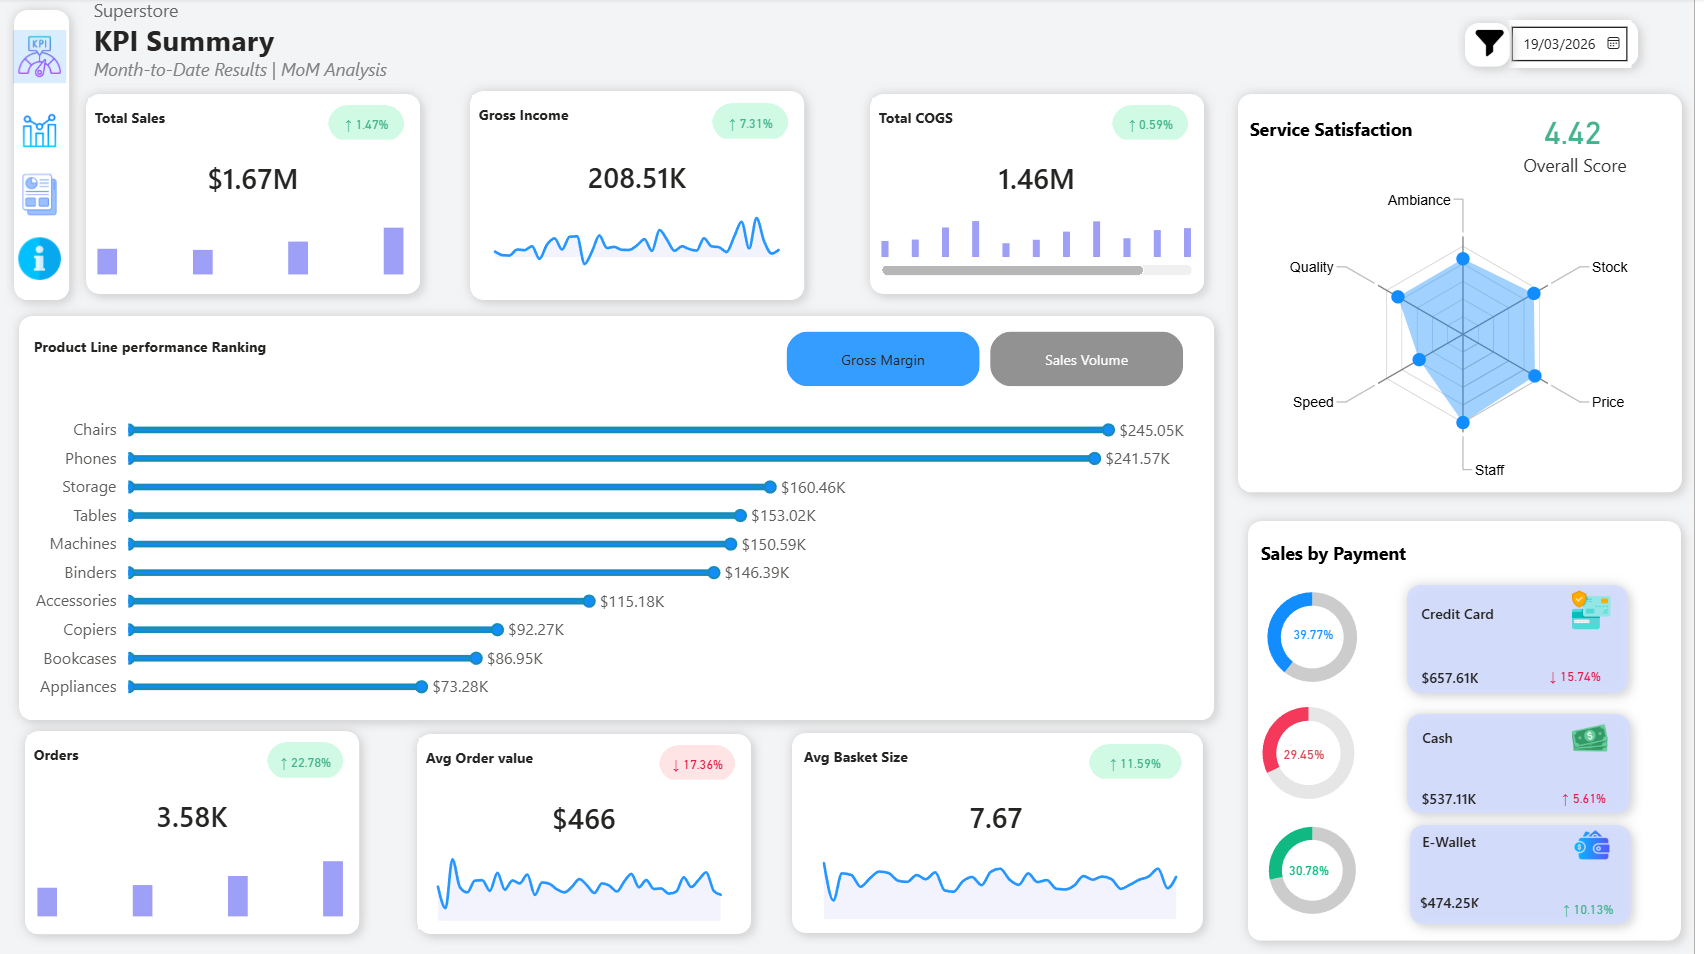

The dashboard page shown, as its layout file describes it:
{"tool":"powerbi","page":{"name":"KPI Overview","canvas":[1280,720],"ordinal":0},"visuals":[{"type":"shape","title":"Shape_base","box":[8,0,59.7,236.1],"z":0,"group":"g14"},{"type":"shape","box":[1131.5,7.5,115.9,53.4],"z":0,"group":"g11"},{"type":"shape","box":[351.1,60.9,269.3,175.1],"z":0,"group":"g8"},{"type":"shape","box":[62.5,63.3,269.2,168.3],"z":0,"group":"g10"},{"type":"shape","box":[651.7,63.3,269.2,168.3],"z":0,"group":"g7"},{"type":"shape","box":[928.3,63.3,351.7,317.5],"z":0,"group":"g6"},{"type":"shape","box":[11.7,230.1,916.4,321.9],"z":0,"group":"g5"},{"type":"group","id":"g1","title":"Sales by Payment","box":[936,384,344,336],"z":0},{"type":"shape","box":[936,384,343.6,333.6],"z":0,"group":"g1"},{"type":"shape","box":[1055.8,432.3,184.1,99.3],"z":0,"group":"g9"},{"type":"shape","box":[1056,529,185.7,92.6],"z":0,"group":"g13"},{"type":"shape","box":[16.7,542,269.3,170.9],"z":0,"group":"g4"},{"type":"shape","box":[592.9,543.7,326.8,168.3],"z":0,"group":"g2"},{"type":"shape","box":[311,544.5,269.2,168.3],"z":0,"group":"g3"},{"type":"shape","box":[1058.4,612.4,183.9,92.6],"z":0,"group":"g12"},{"type":"slicer","fields":{"Values":["Date.Date"]},"box":[1041.5,16.7,191.8,35.9],"z":1000,"group":"g11"},{"type":"shape","box":[542.2,78.8,57.5,28.6],"z":1000,"group":"g8"},{"type":"shape","box":[253.5,80.5,57.5,27.5],"z":1000,"group":"g10"},{"type":"shape","box":[842.7,80.5,57.5,27.5],"z":1000,"group":"g7"},{"type":"textbox","box":[940.9,85.5,194.3,39.3],"z":1000,"group":"g6"},{"type":"actionButton","title":"Info","box":[16,176,40,40],"z":1000,"group":"g14"},{"type":"textbox","box":[26.4,247,466.6,37.8],"z":1000,"group":"g5"},{"type":"textbox","box":[949.8,403.3,189.8,40.9],"z":1000,"group":"g1"},{"type":"kpi","fields":{"TrendLine":["Date.Date.Variation.Date Hierarchy.Year"],"Indicator":["Orders.Payment Share Change"]},"box":[1163.4,496.3,56,24],"z":1000,"group":"g9"},{"type":"image","box":[1186.2,538.2,33.4,35.9],"z":1000,"group":"g13"},{"type":"group","id":"g2","title":"Avg Basket size KPI","box":[592.9,543.7,326.9,167.6],"z":1000},{"type":"shape","box":[207.8,559.5,57.5,27.9],"z":1000,"group":"g4"},{"type":"shape","box":[824.8,560.9,69.8,27.5],"z":1000,"group":"g2"},{"type":"shape","box":[502,561.7,57.5,27.5],"z":1000,"group":"g3"},{"type":"image","box":[1189,619.8,29.6,32.8],"z":1000,"group":"g12"},{"type":"shape","box":[1032.3,16.7,109.2,37.5],"z":2000,"group":"g11"},{"type":"cardVisual","fields":{"Data":["Orders.Gross Income"]},"box":[359.8,100.7,251.2,64.6],"z":2000,"group":"g8"},{"type":"cardVisual","fields":{"Data":["Orders.Total Sales"]},"box":[71.2,101.6,251,62.1],"z":2000,"group":"g10"},{"type":"cardVisual","fields":{"Data":["Orders.Total COGS"]},"box":[660.4,101.6,251,62.1],"z":2000,"group":"g7"},{"type":"textbox","box":[1115.7,112.2,150.3,29.2],"z":2000,"group":"g6"},{"type":"barChart","fields":{"Category":["Orders.Sub-Category"],"Y":["Orders.Selected Ranking Metric"]},"box":[23,294.7,885.2,245.4],"z":2000,"group":"g5"},{"type":"donutChart","fields":{"Y":["Orders.Payment Remainder %","Orders.Payment Volume %"]},"box":[947.3,438.2,92.1,84.3],"z":2000,"group":"g1"},{"type":"image","box":[1188.9,443.9,29.3,33.4],"z":2000,"group":"g9"},{"type":"cardVisual","fields":{"Data":["Orders.Total Sales"],"Rows":["Orders.Payment Method"]},"box":[1036.3,541,120.6,85.1],"z":2000,"group":"g13"},{"type":"group","id":"g3","title":"Avg Order value KPI","box":[311,544.5,269.3,167.6],"z":2000},{"type":"cardVisual","fields":{"Data":["Orders.Total Orders"]},"box":[25.4,580.9,251.2,63],"z":2000,"group":"g4"},{"type":"cardVisual","fields":{"Data":["Orders.Avg Basket Size"]},"box":[603.5,582,304.8,62.1],"z":2000,"group":"g2"},{"type":"cardVisual","fields":{"Data":["Orders.Avg Order Value"]},"box":[319.7,582.8,251,62.1],"z":2000,"group":"g3"},{"type":"cardVisual","fields":{"Data":["Orders.Total Sales"],"Rows":["Orders.Payment Method"]},"box":[1036.3,619.1,121.4,83.4],"z":2000,"group":"g12"},{"type":"shape","box":[1099.5,9.5,51.7,50.9],"z":3000,"group":"g11"},{"type":"kpi","title":"Overall Score","fields":{"Indicator":["Orders.Overall Score"],"TrendLine":["Date.Date.Variation.Date Hierarchy.Year"]},"box":[1115,79,148.6,44.8],"z":3000,"group":"g6"},{"type":"actionButton","title":"Region","box":[16,80,40,40],"z":3000,"group":"g14"},{"type":"clusteredColumnChart","fields":{"Y":["Orders.Total Sales"],"Category":["Date.Date.Variation.Date Hierarchy.Quarter"]},"box":[75.6,147.5,243,66.3],"z":3000,"group":"g10"},{"type":"clusteredColumnChart","fields":{"Y":["Orders.Total COGS"],"Category":["Date.Date.Variation.Date Hierarchy.Year","Date.Date.Variation.Date Hierarchy.Quarter"]},"box":[664.8,147.5,243,66.3],"z":3000,"group":"g7"},{"type":"areaChart","fields":{"Y":["Orders.Gross Income"],"Category":["Date.Date.Variation.Date Hierarchy.Year","Date.Date.Variation.Date Hierarchy.Quarter","Date.Date.Variation.Date Hierarchy.Month"]},"box":[364.2,148.5,243.2,69],"z":3000,"group":"g8"},{"type":"advancedSlicerVisual","fields":{"Values":["Chart Metrics.Metric Name"]},"box":[592.6,245.9,309,51.3],"z":3000,"group":"g5"},{"type":"cardVisual","fields":{"Data":["Orders.Total Sales"],"Rows":["Orders.Payment Method"]},"box":[1035.4,448,123.8,79.3],"z":3000,"group":"g9"},{"type":"donutChart","fields":{"Y":["Orders.Payment Remainder %","Orders.Payment Volume %"]},"box":[947.3,522.4,86.4,90.1],"z":3000,"group":"g1"},{"type":"group","id":"g4","title":"Orders KPI","box":[16.7,542,269.3,170.9],"z":3000},{"type":"textbox","box":[27.2,553.9,110.9,27.6],"z":3000,"group":"g4"},{"type":"kpi","fields":{"TrendLine":["Date.Date.Variation.Date Hierarchy.Year"],"Indicator":["Orders.Payment Share Change"]},"box":[1173.3,591,49.7,18.4],"z":3000,"group":"g13"},{"type":"areaChart","fields":{"Category":["Date.Date.Variation.Date Hierarchy.Year","Date.Date.Variation.Date Hierarchy.Quarter","Date.Date.Variation.Date Hierarchy.Month"],"Y":["Orders.Avg Basket Size"]},"box":[611.1,630.7,294.7,66.7],"z":3000,"group":"g2"},{"type":"areaChart","fields":{"Category":["Date.Date.Variation.Date Hierarchy.Year","Date.Date.Variation.Date Hierarchy.Quarter","Date.Date.Variation.Date Hierarchy.Month"],"Y":["Orders.Avg Order Value"]},"box":[321,632.8,242.5,66.7],"z":3000,"group":"g3"},{"type":"kpi","fields":{"TrendLine":["Date.Date.Variation.Date Hierarchy.Year"],"Indicator":["Orders.Payment Share Change"]},"box":[1175.8,673.8,50.1,18],"z":3000,"group":"g12"},{"type":"image","box":[1114.5,18.5,25,29.2],"z":4000,"group":"g11"},{"type":"textbox","box":[361.6,73.1,110.9,28.2],"z":4000,"group":"g8"},{"type":"textbox","box":[73,75.1,110.8,27.2],"z":4000,"group":"g10"},{"type":"textbox","box":[662.2,75.1,110.8,27.2],"z":4000,"group":"g7"},{"type":"actionButton","title":"Order","box":[16,128,40,40],"z":4000,"group":"g14"},{"type":"RadarChart1446119667547","fields":{"Category":["Satisfaction Dimensions.Dimension"],"Y":["Orders.Radar Chart Values"]},"box":[948.8,140.4,315.6,224.6],"z":4000,"group":"g6"},{"type":"group","id":"g5","title":"Product LIne Distribution KPI","box":[11.7,230.1,916.4,321.9],"z":4000},{"type":"textbox","box":[605.7,555.5,134.5,27.2],"z":4000,"group":"g2"},{"type":"textbox","box":[321.5,556.3,110.8,27.2],"z":4000,"group":"g3"},{"type":"kpi","fields":{"TrendLine":["Date.Date.Variation.Date Hierarchy.Year"],"Indicator":["Orders.Orders YoY %"]},"box":[210.4,563.7,52.5,18.6],"z":4000,"group":"g4"},{"type":"donutChart","fields":{"Y":["Orders.Payment Remainder %","Orders.Payment Volume %"]},"box":[948.4,614.8,89.2,81.7],"z":4000,"group":"g1"},{"type":"actionButton","title":"KPI","box":[16,24,40,40],"z":4500,"group":"g14"},{"type":"group","id":"g6","title":"Service Satisfacation KPI","box":[928.3,63.3,351.7,317.5],"z":5000},{"type":"kpi","fields":{"TrendLine":["Date.Date.Variation.Date Hierarchy.Year"],"Indicator":["Orders.Gross Income YoY %"]},"box":[544.8,83.2,52.5,19.1],"z":5000,"group":"g8"},{"type":"kpi","fields":{"Indicator":["Orders.Sales YoY %"],"TrendLine":["Date.Date.Variation.Date Hierarchy.Year"]},"box":[256.1,84.7,52.5,18.3],"z":5000,"group":"g10"},{"type":"kpi","fields":{"Indicator":["Orders.COGS YoY %"],"TrendLine":["Date.Date.Variation.Date Hierarchy.Year"]},"box":[845.3,84.7,52.5,18.3],"z":5000,"group":"g7"},{"type":"kpi","fields":{"TrendLine":["Date.Date.Variation.Date Hierarchy.Year"],"Indicator":["Orders.Payment Volume %"]},"box":[976.6,467.4,35,21.7],"z":5000,"group":"g1"},{"type":"kpi","fields":{"TrendLine":["Date.Date.Variation.Date Hierarchy.Year"],"Indicator":["Orders.Basket Size YoY %"]},"box":[828,565.1,63.7,18.3],"z":5000,"group":"g2"},{"type":"kpi","fields":{"TrendLine":["Date.Date.Variation.Date Hierarchy.Year"],"Indicator":["Orders.AOV YoY %"]},"box":[504.6,565.9,52.5,18.3],"z":5000,"group":"g3"},{"type":"clusteredColumnChart","fields":{"Y":["Orders.Total Orders"],"Category":["Date.Date.Variation.Date Hierarchy.Quarter"]},"box":[30,627.5,242.7,68.5],"z":5000,"group":"g4"},{"type":"group","id":"g7","title":"Total COGS KPI","box":[651.7,63.3,269.2,168.3],"z":6000},{"type":"kpi","fields":{"TrendLine":["Date.Date.Variation.Date Hierarchy.Year"],"Indicator":["Orders.Payment Volume %"]},"box":[968.5,557.5,37.5,21.7],"z":6000,"group":"g1"},{"type":"group","id":"g8","title":"Gross Income KPI","box":[351.1,60.9,269.3,175.1],"z":7000},{"type":"group","id":"g9","title":"Credit card","box":[1035.4,432.3,204.5,99.3],"z":7000,"group":"g1"},{"type":"group","id":"g10","title":"Total Sale KPI","box":[62.5,63.3,269.2,168.3],"z":8000},{"type":"kpi","fields":{"TrendLine":["Date.Date.Variation.Date Hierarchy.Year"],"Indicator":["Orders.Payment Volume %"]},"box":[972,643.1,37.5,25.9],"z":8000,"group":"g1"},{"type":"group","id":"g11","title":"Date","box":[1032.3,7.5,215.1,53.4],"z":9000},{"type":"group","id":"g12","title":"Cash","box":[1036.3,612.4,206.1,92.6],"z":9000,"group":"g1"},{"type":"textbox","title":"Title","box":[72,0,256,64],"z":10000},{"type":"group","id":"g13","title":"E wallet","box":[1036.3,529,205.3,97.6],"z":10000,"group":"g1"},{"type":"group","id":"g14","title":"Navigation bar","box":[8,0,56,240],"z":12000}]}

Visuals, with their boxes in screenshot pixels (x1, y1, x2, y2), scaled from the page's 1280x720 canvas onto the 1704x954 screenshot:
"Shape_base" shape: crop(11, 0, 90, 313)
shape: crop(1506, 10, 1661, 81)
shape: crop(467, 81, 826, 313)
shape: crop(83, 84, 442, 307)
shape: crop(868, 84, 1226, 307)
shape: crop(1236, 84, 1703, 505)
shape: crop(16, 305, 1236, 731)
"Sales by Payment" group: crop(1246, 509, 1703, 953)
shape: crop(1246, 509, 1703, 951)
shape: crop(1406, 573, 1651, 704)
shape: crop(1406, 701, 1653, 824)
shape: crop(22, 718, 381, 945)
shape: crop(789, 720, 1224, 943)
shape: crop(414, 721, 772, 944)
shape: crop(1409, 811, 1654, 934)
slicer - Date.Date: crop(1386, 22, 1642, 70)
shape: crop(722, 104, 798, 142)
shape: crop(337, 107, 414, 143)
shape: crop(1122, 107, 1198, 143)
textbox: crop(1253, 113, 1511, 165)
"Info" actionButton: crop(21, 233, 75, 286)
textbox: crop(35, 327, 656, 377)
textbox: crop(1264, 534, 1517, 589)
kpi - Date.Date.Variation.Date Hierarchy.Year x Orders.Payment Share Change: crop(1549, 658, 1623, 689)
image: crop(1579, 713, 1624, 761)
"Avg Basket size KPI" group: crop(789, 720, 1224, 942)
shape: crop(277, 741, 353, 778)
shape: crop(1098, 743, 1191, 780)
shape: crop(668, 744, 745, 781)
image: crop(1583, 821, 1622, 865)
shape: crop(1374, 22, 1520, 72)
cardVisual - Orders.Gross Income: crop(479, 133, 813, 219)
cardVisual - Orders.Total Sales: crop(95, 135, 429, 217)
cardVisual - Orders.Total COGS: crop(879, 135, 1213, 217)
textbox: crop(1485, 149, 1685, 187)
barChart - Orders.Sub-Category x Orders.Selected Ranking Metric: crop(31, 390, 1209, 716)
donutChart - Orders.Payment Remainder % x Orders.Payment Volume %: crop(1261, 581, 1384, 692)
image: crop(1583, 588, 1622, 632)
cardVisual - Orders.Total Sales x Orders.Payment Method: crop(1380, 717, 1540, 830)
"Avg Order value KPI" group: crop(414, 721, 773, 944)
cardVisual - Orders.Total Orders: crop(34, 770, 368, 853)
cardVisual - Orders.Avg Basket Size: crop(803, 771, 1209, 853)
cardVisual - Orders.Avg Order Value: crop(426, 772, 760, 854)
cardVisual - Orders.Total Sales x Orders.Payment Method: crop(1380, 820, 1541, 931)
shape: crop(1464, 13, 1533, 80)
"Overall Score" kpi: crop(1484, 105, 1682, 164)
"Region" actionButton: crop(21, 106, 75, 159)
clusteredColumnChart - Orders.Total Sales x Date.Date.Variation.Date Hierarchy.Quarter: crop(101, 195, 424, 283)
clusteredColumnChart - Orders.Total COGS x Date.Date.Variation.Date Hierarchy.Year: crop(885, 195, 1209, 283)
areaChart - Orders.Gross Income x Date.Date.Variation.Date Hierarchy.Year: crop(485, 197, 809, 288)
advancedSlicerVisual - Chart Metrics.Metric Name: crop(789, 326, 1200, 394)
cardVisual - Orders.Total Sales x Orders.Payment Method: crop(1378, 594, 1543, 699)
donutChart - Orders.Payment Remainder % x Orders.Payment Volume %: crop(1261, 692, 1376, 812)
"Orders KPI" group: crop(22, 718, 381, 945)
textbox: crop(36, 734, 184, 770)
kpi - Date.Date.Variation.Date Hierarchy.Year x Orders.Payment Share Change: crop(1562, 783, 1628, 807)
areaChart - Date.Date.Variation.Date Hierarchy.Year x Date.Date.Variation.Date Hierarchy.Quarter: crop(814, 836, 1206, 924)
areaChart - Date.Date.Variation.Date Hierarchy.Year x Date.Date.Variation.Date Hierarchy.Quarter: crop(427, 838, 750, 927)
kpi - Date.Date.Variation.Date Hierarchy.Year x Orders.Payment Share Change: crop(1565, 893, 1632, 917)
image: crop(1484, 25, 1517, 63)
textbox: crop(481, 97, 629, 134)
textbox: crop(97, 100, 245, 136)
textbox: crop(882, 100, 1029, 136)
"Order" actionButton: crop(21, 170, 75, 223)
RadarChart1446119667547 - Satisfaction Dimensions.Dimension x Orders.Radar Chart Values: crop(1263, 186, 1683, 484)
"Product LIne Distribution KPI" group: crop(16, 305, 1236, 731)
textbox: crop(806, 736, 985, 772)
textbox: crop(428, 737, 575, 773)
kpi - Date.Date.Variation.Date Hierarchy.Year x Orders.Orders YoY %: crop(280, 747, 350, 772)
donutChart - Orders.Payment Remainder % x Orders.Payment Volume %: crop(1263, 815, 1381, 923)
"KPI" actionButton: crop(21, 32, 75, 85)
"Service Satisfacation KPI" group: crop(1236, 84, 1703, 505)
kpi - Date.Date.Variation.Date Hierarchy.Year x Orders.Gross Income YoY %: crop(725, 110, 795, 136)
kpi - Orders.Sales YoY % x Date.Date.Variation.Date Hierarchy.Year: crop(341, 112, 411, 136)
kpi - Orders.COGS YoY % x Date.Date.Variation.Date Hierarchy.Year: crop(1125, 112, 1195, 136)
kpi - Date.Date.Variation.Date Hierarchy.Year x Orders.Payment Volume %: crop(1300, 619, 1347, 648)
kpi - Date.Date.Variation.Date Hierarchy.Year x Orders.Basket Size YoY %: crop(1102, 749, 1187, 773)
kpi - Date.Date.Variation.Date Hierarchy.Year x Orders.AOV YoY %: crop(672, 750, 742, 774)
clusteredColumnChart - Orders.Total Orders x Date.Date.Variation.Date Hierarchy.Quarter: crop(40, 831, 363, 922)
"Total COGS KPI" group: crop(868, 84, 1226, 307)
kpi - Date.Date.Variation.Date Hierarchy.Year x Orders.Payment Volume %: crop(1289, 739, 1339, 767)
"Gross Income KPI" group: crop(467, 81, 826, 313)
"Credit card" group: crop(1378, 573, 1651, 704)
"Total Sale KPI" group: crop(83, 84, 442, 307)
kpi - Date.Date.Variation.Date Hierarchy.Year x Orders.Payment Volume %: crop(1294, 852, 1344, 886)
"Date" group: crop(1374, 10, 1661, 81)
"Cash" group: crop(1380, 811, 1654, 934)
"Title" textbox: crop(96, 0, 437, 85)
"E wallet" group: crop(1380, 701, 1653, 830)
"Navigation bar" group: crop(11, 0, 85, 318)
